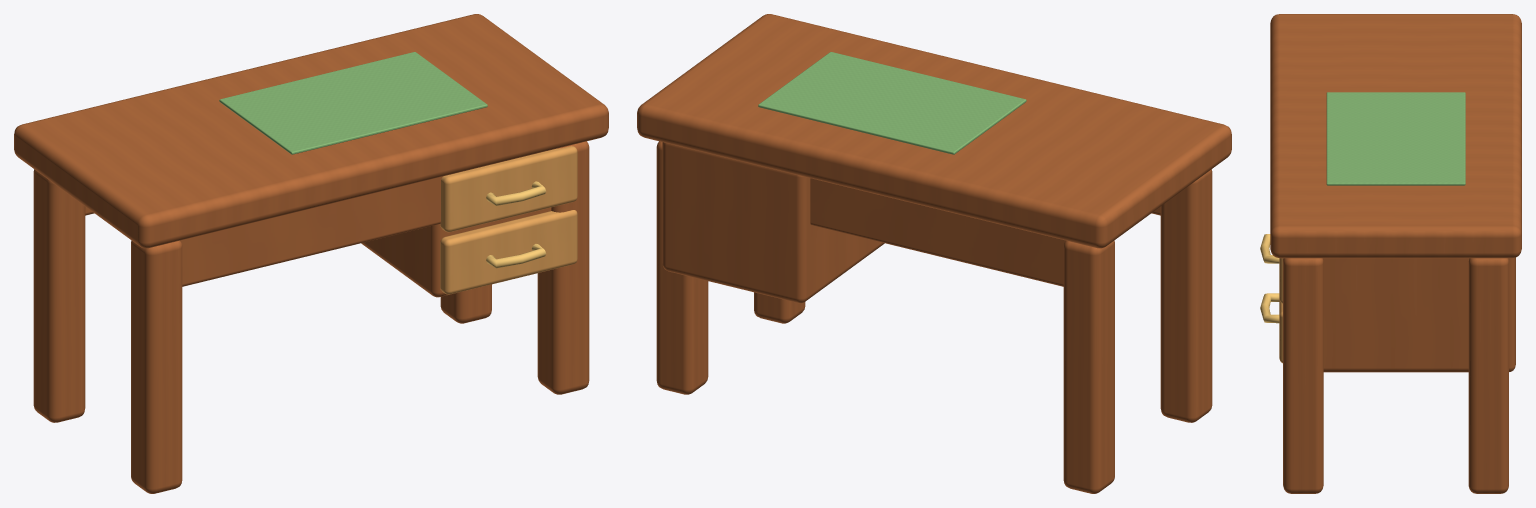
The model's file is DESK.glb.
3 views of the same model, side by side, from view 1: azimuth 30°, elevation 25°; view 2: azimuth 150°, elevation 25°; view 3: azimuth 270°, elevation 25° (orthographic). The views are drawn at different scales.
Parts seen in each view (by area): view 1: DESK; view 2: DESK; view 3: DESK.
Part boxes in pixels (box(x1,y1,x2,y2)): DESK: box(14, 14, 608, 493); DESK: box(637, 14, 1231, 493); DESK: box(1260, 14, 1521, 493).
Bounding box in the file's own units: 1.34 × 0.787 × 0.6775.
4 materials, 3 textured.
